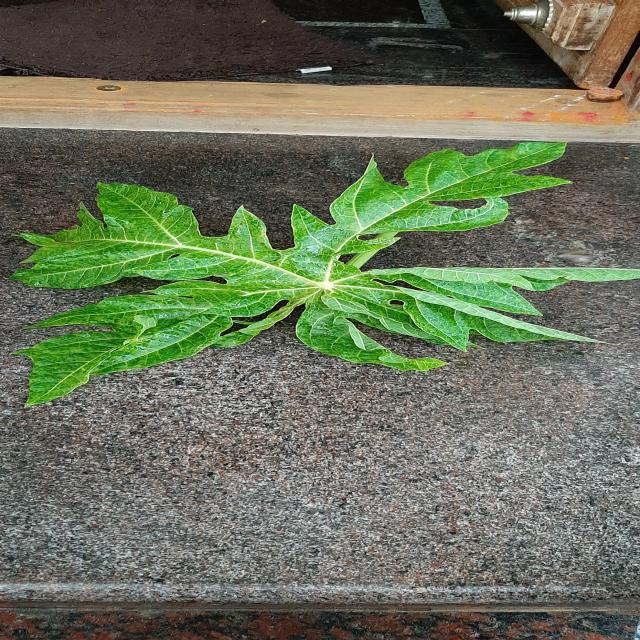papaya: (11, 142, 637, 405)
